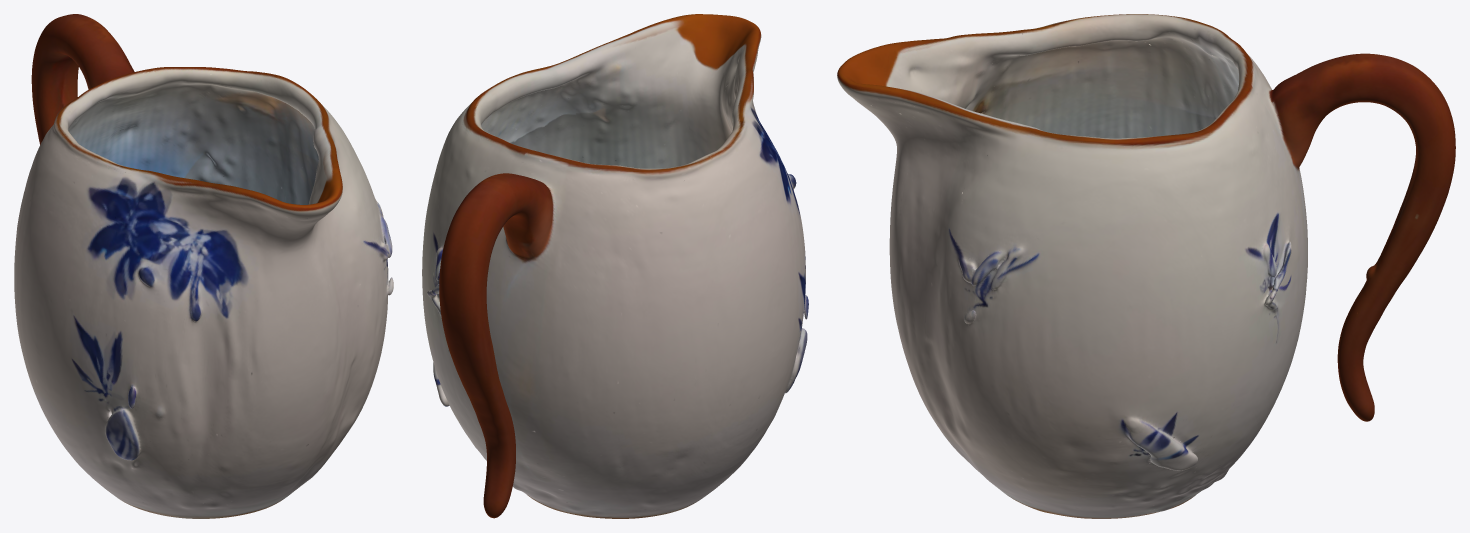
File: tripo_convert_580b989f-b56f-4907-88cb-97731d9dd8d4.fbx
3 renders of one model, left to right at view 1: azimuth 30°, elevation 25°; view 2: azimuth 150°, elevation 25°; view 3: azimuth 270°, elevation 25°, orthographic. The views are drawn at different scales.
Parts seen in each view (by area): view 1: tripo_node_580b989f; view 2: tripo_node_580b989f; view 3: tripo_node_580b989f.
Part boxes in pixels (x1=…): tripo_node_580b989f: x1=14, y1=14, x2=393, y2=518; tripo_node_580b989f: x1=422, y1=14, x2=808, y2=518; tripo_node_580b989f: x1=837, y1=14, x2=1455, y2=518.
Bounding box in the file's own units: 63.62 × 71.1 × 95.14.
Materials: 1 (1 with a texture image).
